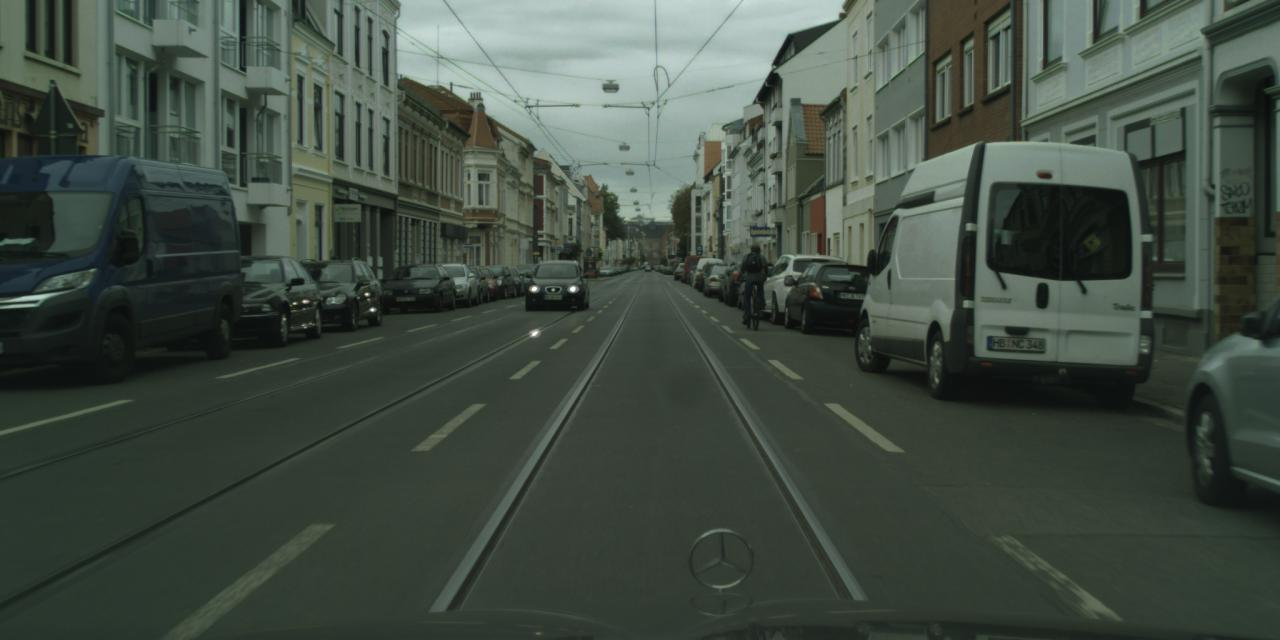ped: (739, 244, 769, 316)
